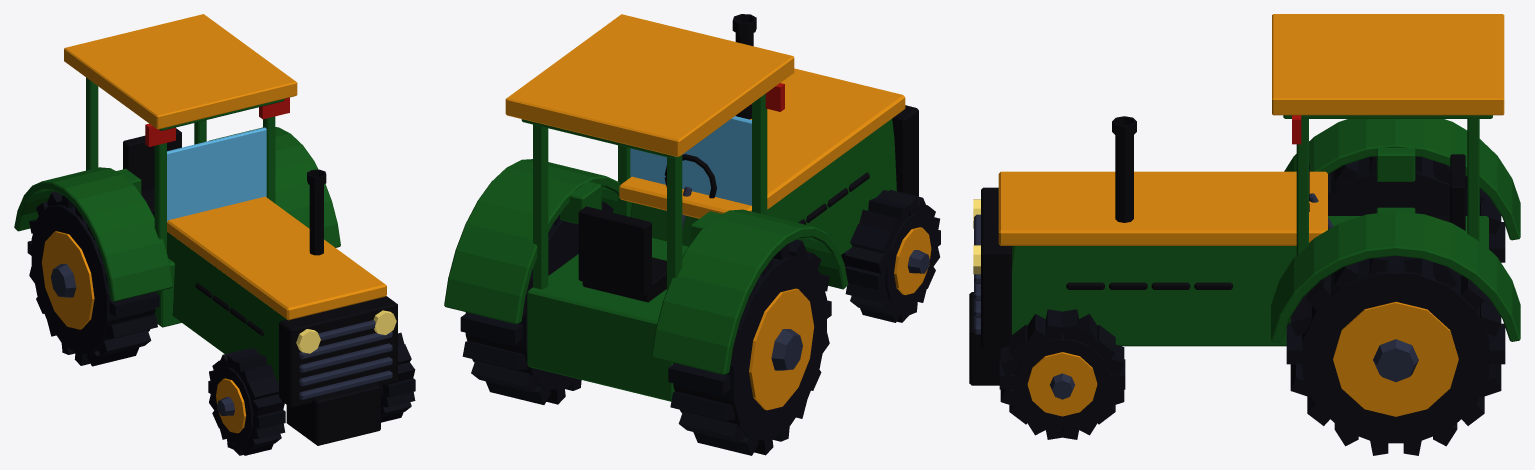
The model's file is myw_tractor.obj.
3 views of the same model, side by side, from view 1: azimuth 30°, elevation 25°; view 2: azimuth 150°, elevation 25°; view 3: azimuth 270°, elevation 25° (orthographic). The views are drawn at different scales.
Parts seen in each view (by area): view 1: Body, Cab, Fenders, RearWheelL, FrontWheelL, Details, FrontWheelR; view 2: Cab, Body, Fenders, RearWheelL, FrontWheelL, RearWheelR, Details; view 3: Body, RearWheelR, Cab, Fenders, FrontWheelR, RearWheelL, Details.
Boxes of the visible parts, box(x1,y1,x2,y2) form: Body: box(154, 196, 397, 445); Cab: box(64, 14, 297, 252); Fenders: box(14, 127, 340, 301); RearWheelL: box(27, 191, 159, 366); FrontWheelL: box(208, 348, 285, 455); Details: box(145, 97, 396, 353); FrontWheelR: box(381, 332, 415, 422); Cab: box(505, 14, 794, 302); Body: box(527, 68, 918, 401); Fenders: box(444, 159, 850, 374); RearWheelL: box(668, 239, 831, 455); FrontWheelL: box(845, 189, 940, 322); RearWheelR: box(460, 201, 613, 404); Details: box(732, 14, 906, 119); Body: box(969, 171, 1488, 385); RearWheelR: box(1286, 256, 1505, 455); Cab: box(1272, 14, 1504, 255); Fenders: box(1271, 119, 1520, 342); FrontWheelR: box(999, 309, 1125, 439); RearWheelL: box(1328, 156, 1505, 262); Details: box(973, 115, 1301, 274).
Size of the model in its own units: 4.4 by 4.79 by 7.11.
